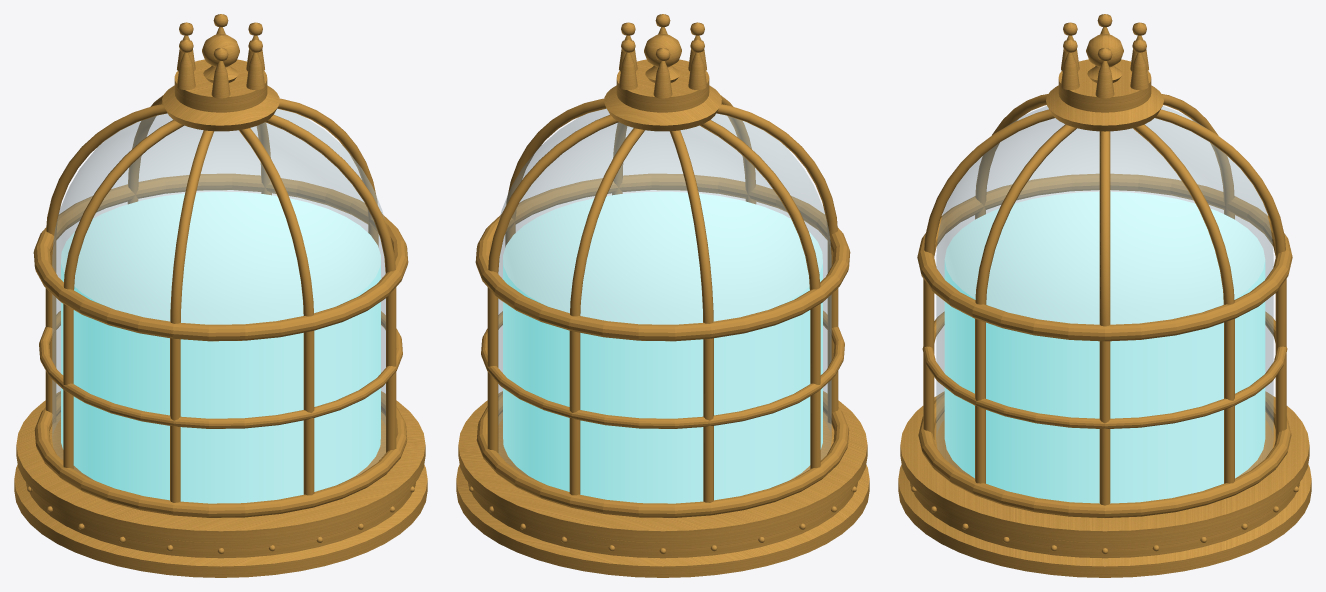
File: act2_glass_tank_bl.glb
The picture shows the model from 3 angles, left to right: view 1: azimuth 30°, elevation 25°; view 2: azimuth 150°, elevation 25°; view 3: azimuth 270°, elevation 25°; orthographic projection.
Visible parts, largest first — view 1: SM_Act2_GlassTank_Glass, SM_Act2_GlassTank_Frame, ANIM_WT_WaterFill; view 2: SM_Act2_GlassTank_Glass, SM_Act2_GlassTank_Frame, ANIM_WT_WaterFill; view 3: SM_Act2_GlassTank_Glass, SM_Act2_GlassTank_Frame, ANIM_WT_WaterFill.
Part boxes in pixels (left/top/right/bottom): SM_Act2_GlassTank_Glass: left=52, top=108, right=385, bottom=503; SM_Act2_GlassTank_Frame: left=14, top=14, right=427, bottom=577; ANIM_WT_WaterFill: left=61, top=191, right=380, bottom=503; SM_Act2_GlassTank_Glass: left=498, top=108, right=831, bottom=503; SM_Act2_GlassTank_Frame: left=456, top=14, right=869, bottom=577; ANIM_WT_WaterFill: left=503, top=191, right=822, bottom=503; SM_Act2_GlassTank_Glass: left=936, top=106, right=1273, bottom=502; SM_Act2_GlassTank_Frame: left=898, top=14, right=1311, bottom=577; ANIM_WT_WaterFill: left=944, top=191, right=1265, bottom=503.
Size of the model in its own units: 1.96 by 2.4 by 1.96.
3 materials, 1 textured.
